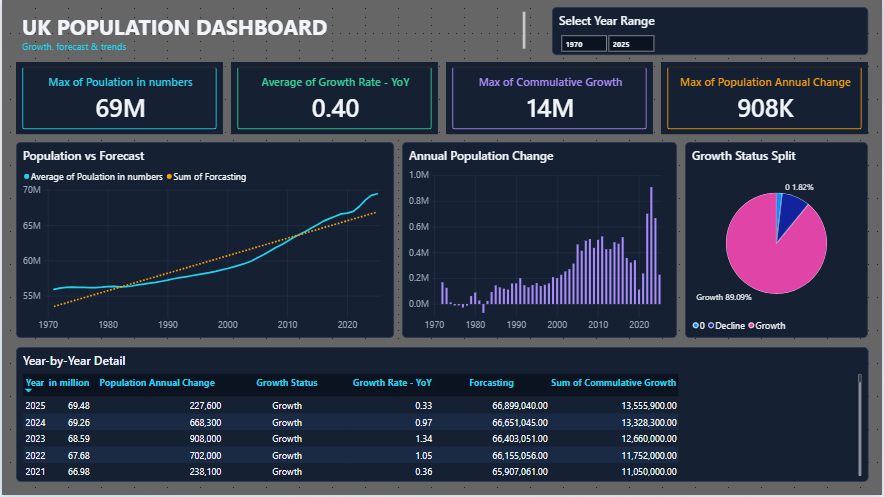

The dashboard page shown, as its layout file describes it:
{"tool":"powerbi","page":{"name":"Page 1","canvas":[2560,1440],"ordinal":0},"visuals":[{"type":"textbox","box":[40,20,1500,140],"z":0},{"type":"slicer","title":"Select Year Range","fields":{"Values":["data.Year"]},"box":[1600,20,920,140],"z":1000},{"type":"cardVisual","fields":{"Data":["Max(data.Poulation in numbers)"]},"box":[40,180,602,210],"z":2000},{"type":"cardVisual","fields":{"Data":["Avg(data.Growth Rate - YoY)"]},"box":[666,180,602,210],"z":3000},{"type":"cardVisual","fields":{"Data":["Max(data.Commulative Growth)"]},"box":[1292,180,602,210],"z":4000},{"type":"cardVisual","fields":{"Data":["Max(data.Population Annual Change)"]},"box":[1918,180,602,210],"z":5000},{"type":"lineChart","title":"Population vs Forecast","fields":{"Y":["Avg(data.Poulation in numbers)","Sum(data.Forcasting)"],"Category":["data.Year"]},"box":[40,414,1100,570],"z":6000},{"type":"clusteredColumnChart","title":"Annual Population Change","fields":{"Y":["Avg(data.Population Annual Change)"],"Category":["data.Year"]},"box":[1164,414,800,570],"z":7000},{"type":"pieChart","title":"Growth Status Split","fields":{"Category":["data.Growth Status"],"Y":["Count(data.Year)"]},"box":[1988,414,532,570],"z":8000},{"type":"tableEx","title":"Year-by-Year Detail","fields":{"Values":["data.Year","data.in million","data.Population Annual Change","data.Growth Status","data.Growth Rate - YoY","data.Forcasting","Sum(data.Commulative Growth)"]},"box":[40,1008,2480,392],"z":9000}]}

Visuals, with their boxes in screenshot pixels (x1, y1, x2, y2), scaled from the page's 2560x1440 canvas onto the 884x497 screenshot:
textbox: <box>14,7,532,55</box>
"Select Year Range" slicer: <box>552,7,870,55</box>
cardVisual - Max(data.Poulation in numbers): <box>14,62,222,135</box>
cardVisual - Avg(data.Growth Rate - YoY): <box>230,62,438,135</box>
cardVisual - Max(data.Commulative Growth): <box>446,62,654,135</box>
cardVisual - Max(data.Population Annual Change): <box>662,62,870,135</box>
"Population vs Forecast" lineChart: <box>14,143,394,340</box>
"Annual Population Change" clusteredColumnChart: <box>402,143,678,340</box>
"Growth Status Split" pieChart: <box>686,143,870,340</box>
"Year-by-Year Detail" tableEx: <box>14,348,870,483</box>
